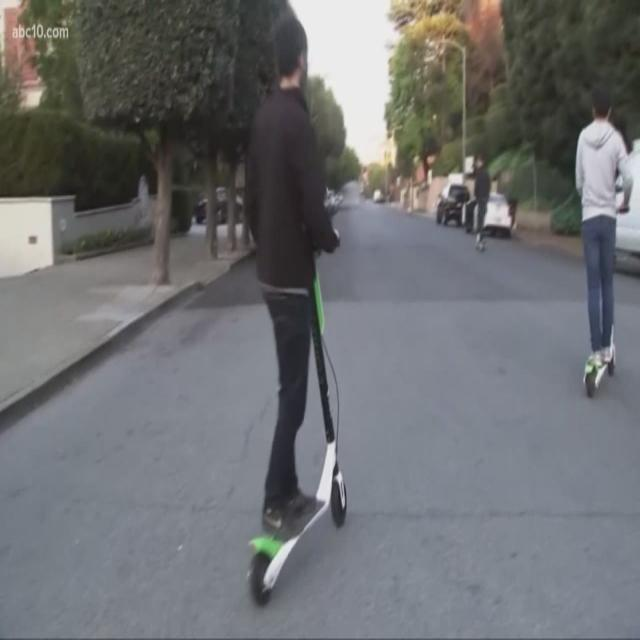non-helmet: (228, 6, 354, 622), (567, 72, 639, 417)
